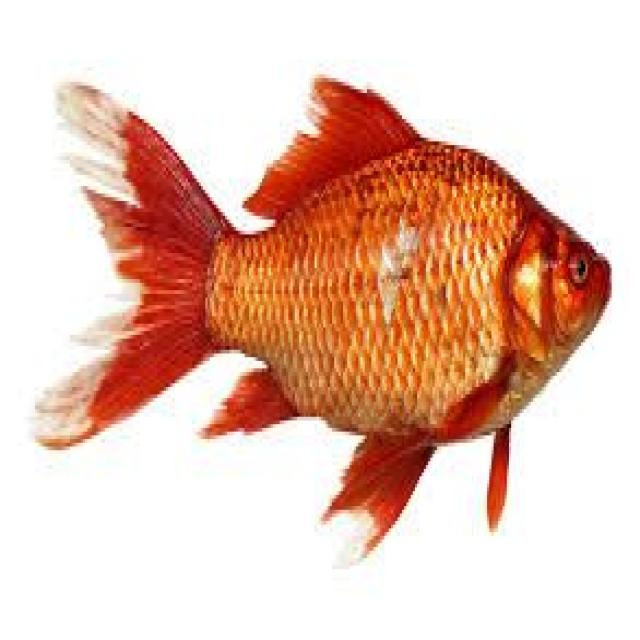Gold-Fish: (26, 48, 622, 586)
